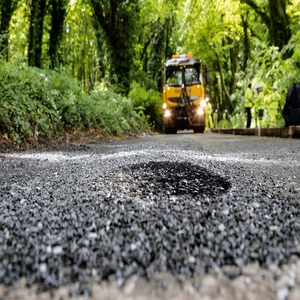pothole: (106, 161, 234, 204)
